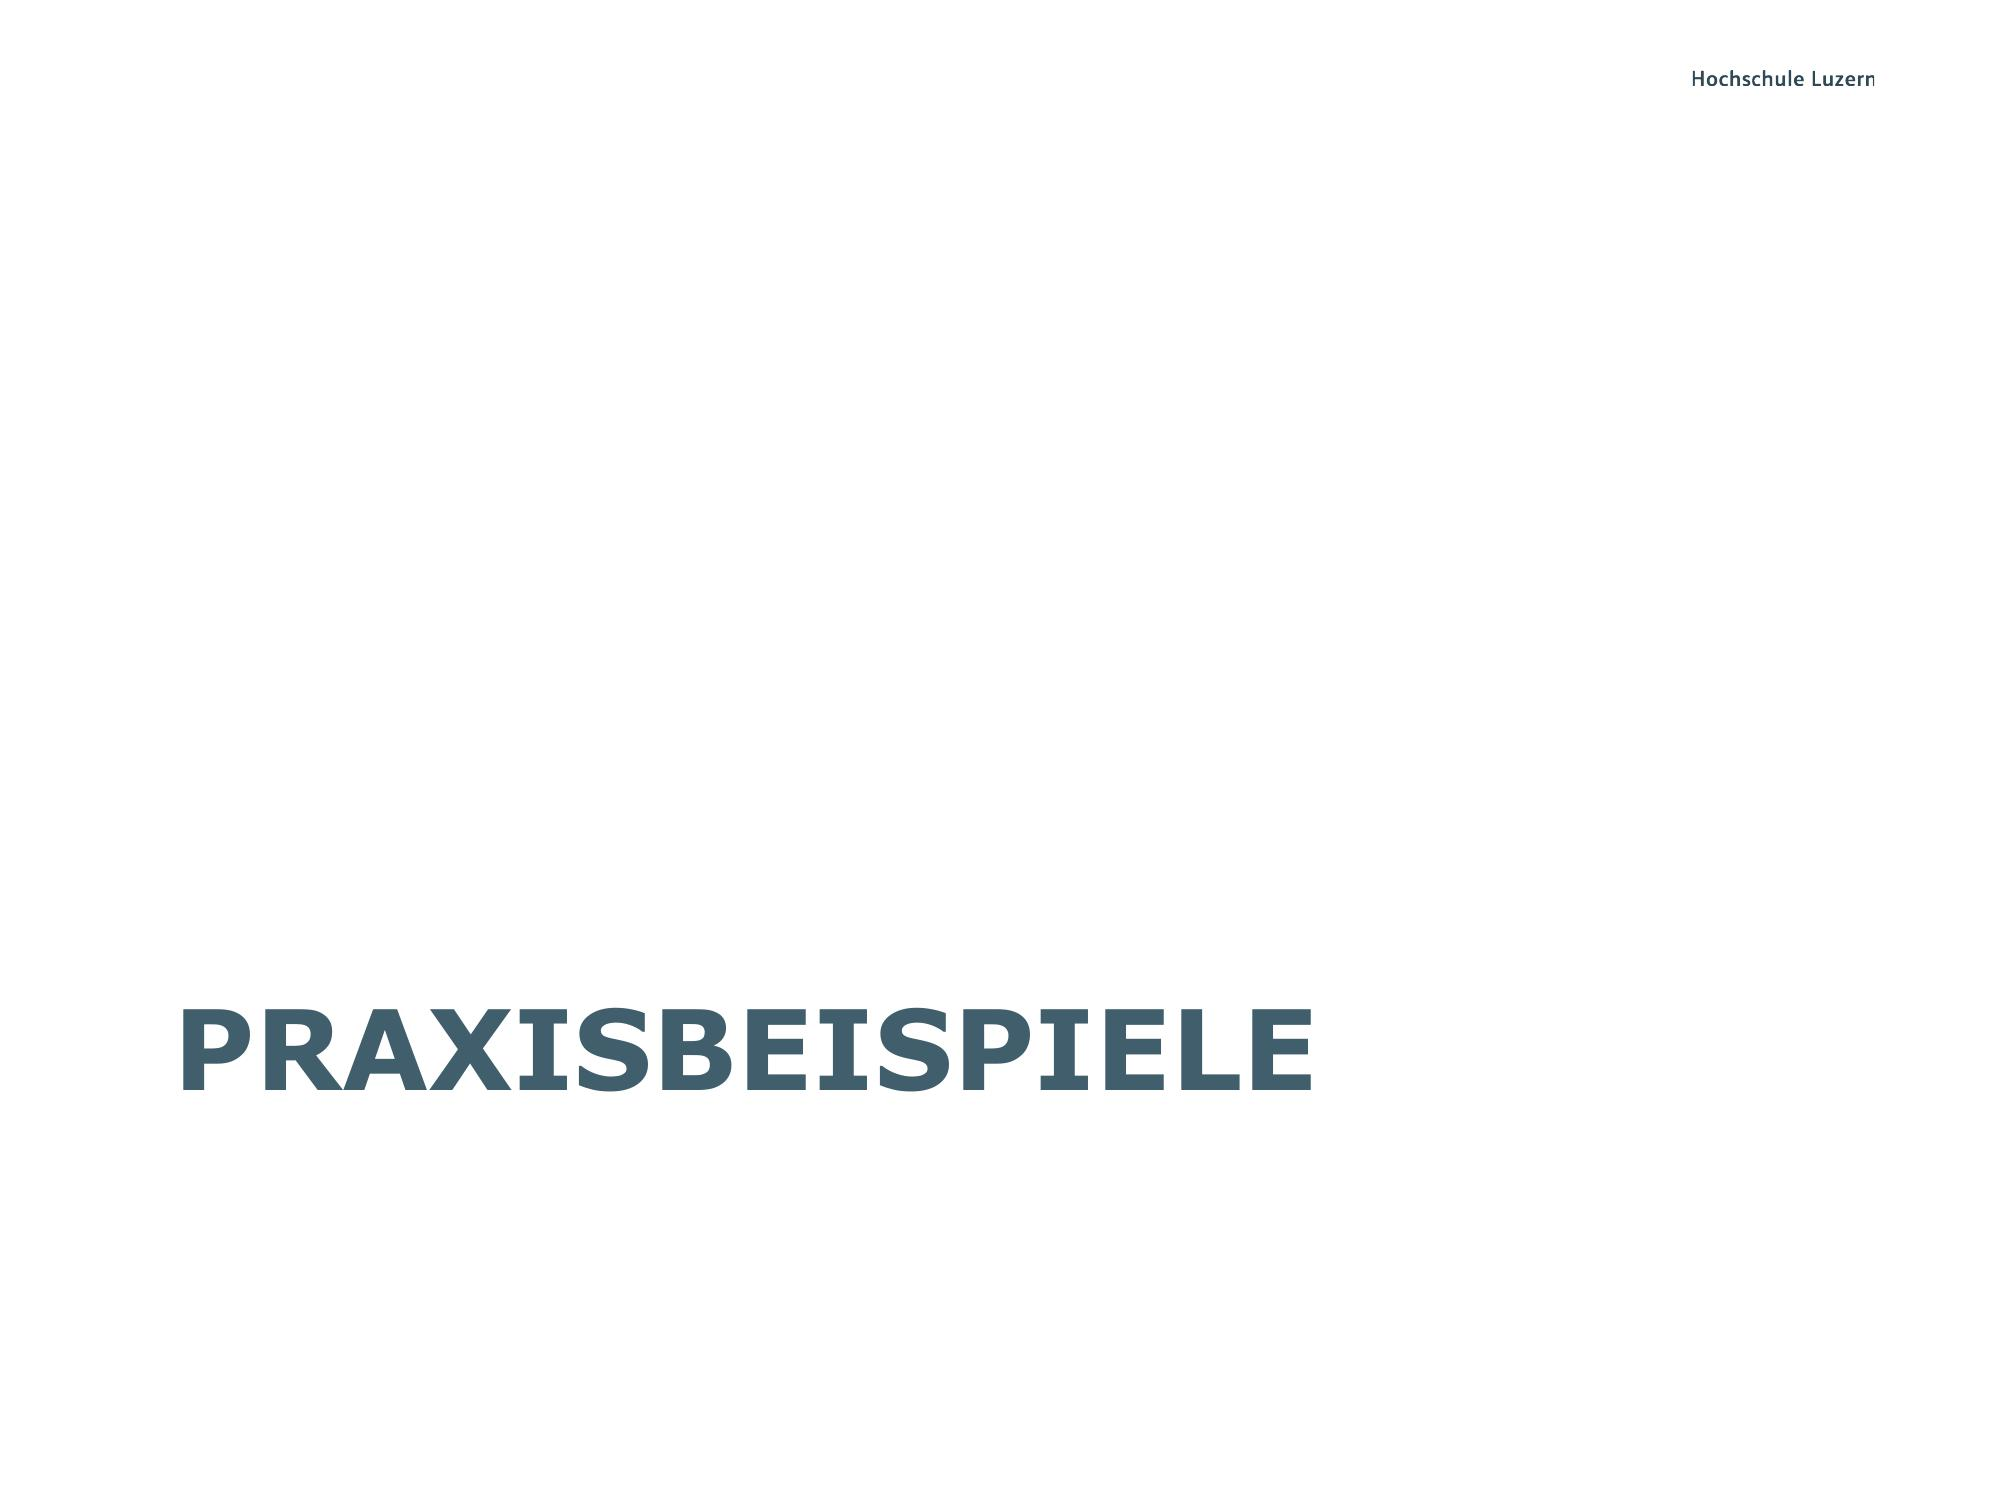Title: (154, 985, 1331, 1134)
